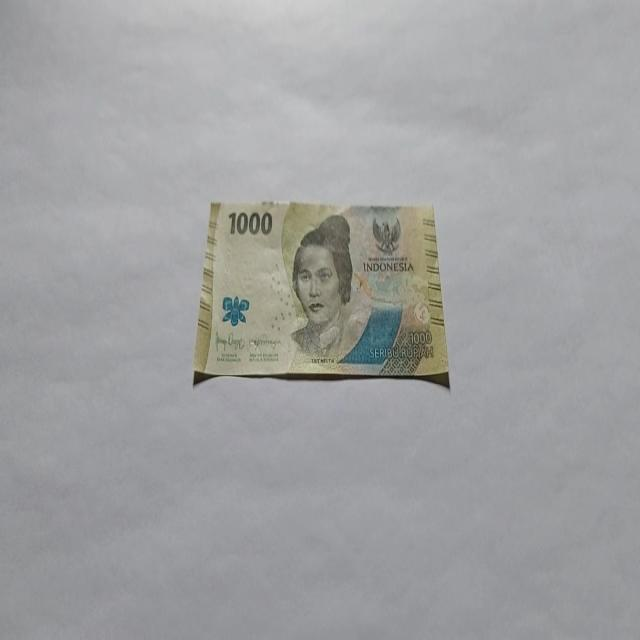seribu rupiah kertas: (192, 199, 450, 390)
